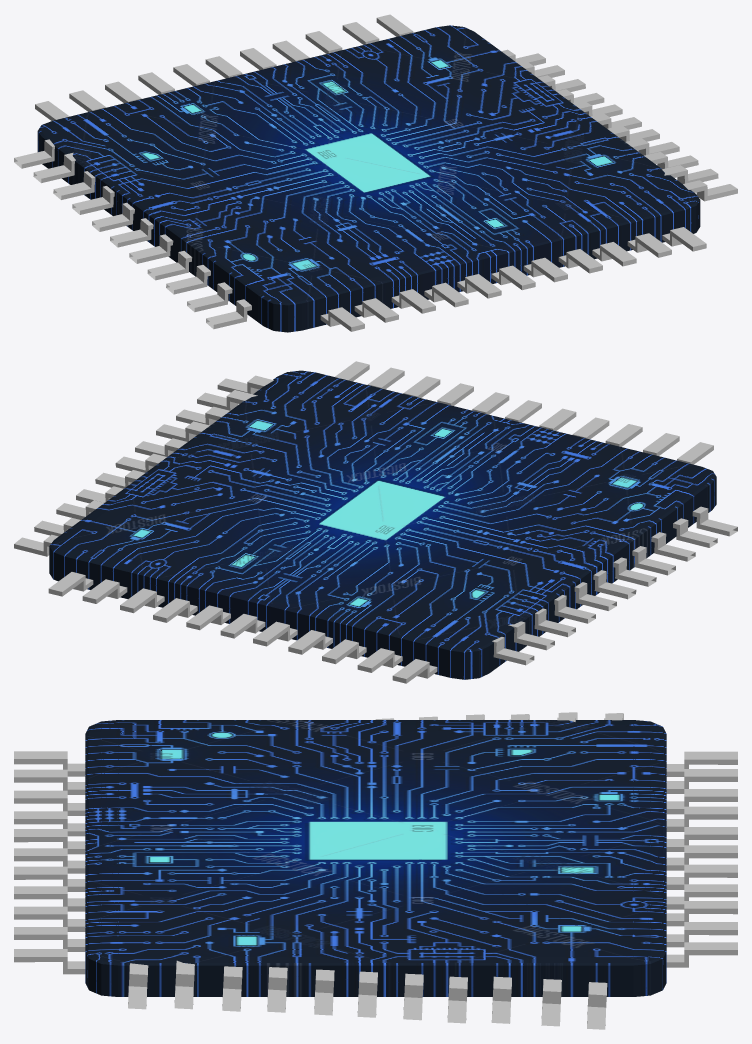
File: microchip.fbx
3 renders of one model, top to bottom at view 1: azimuth 30°, elevation 25°; view 2: azimuth 150°, elevation 25°; view 3: azimuth 270°, elevation 25°, orthographic. The views are drawn at different scales.
Visible parts, largest first — view 1: Model; view 2: Model; view 3: Model.
Boxes of the visible parts, x1,y1,x2,y2 form: Model: [14, 14, 737, 332]; Model: [14, 361, 737, 683]; Model: [14, 712, 737, 1029].
Bounding box in the file's own units: 207 × 12.03 × 214.
